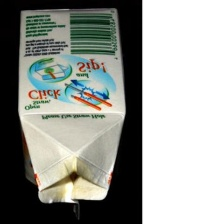carton: (14, 7, 131, 219)
